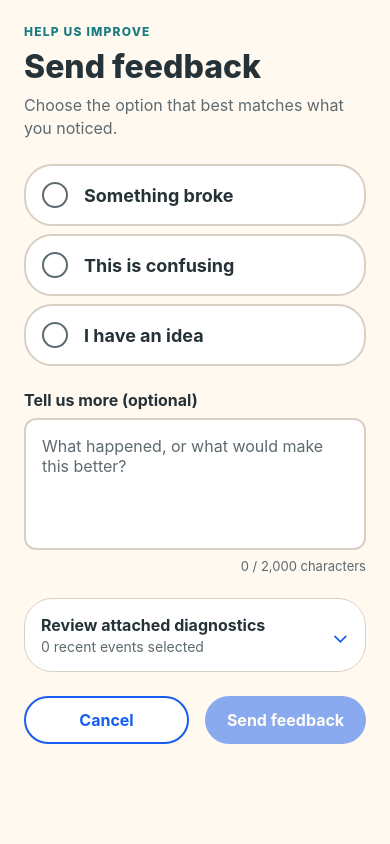
Test: send parent feedback › shows an acknowledged confirmation and sends optional text only after enqueueing
Click the radio button labelled "I have an idea": [195, 335] box [24,304,366,366]
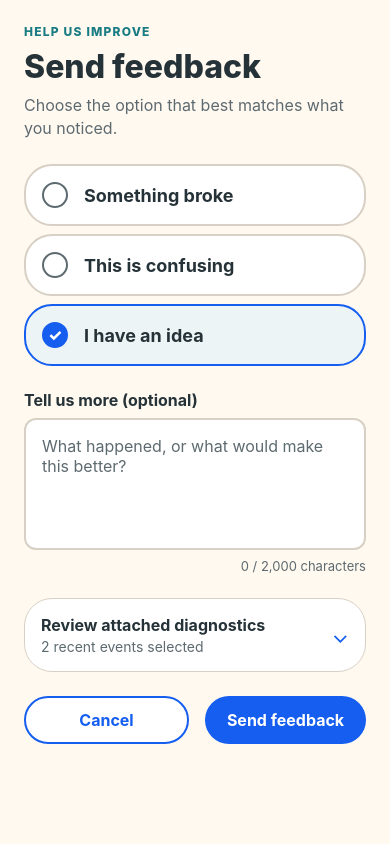
In the text box named "Tell us more (optional)": [195, 484] box [24,418,366,550], type "Make the buttons bigger."
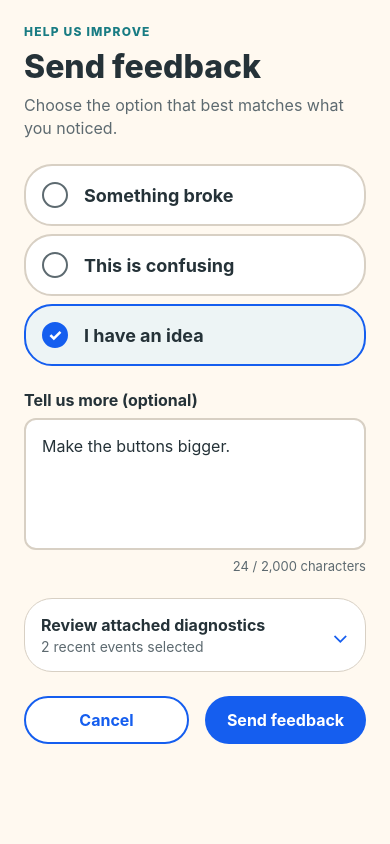
Click the button "Send feedback": [286, 720] box [205,696,366,744]
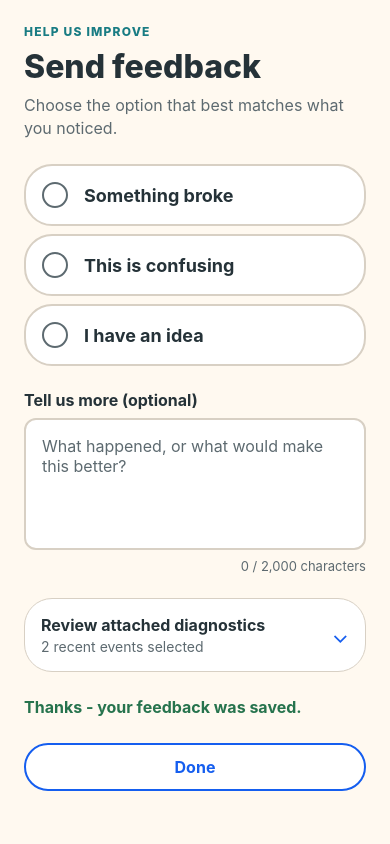
Check: the text "Thanks - your feedback was saved." is shown, box [24,697,302,717]
